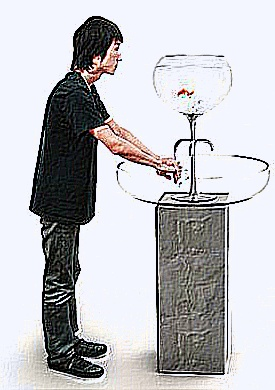washing hand: (128, 124, 225, 198)
